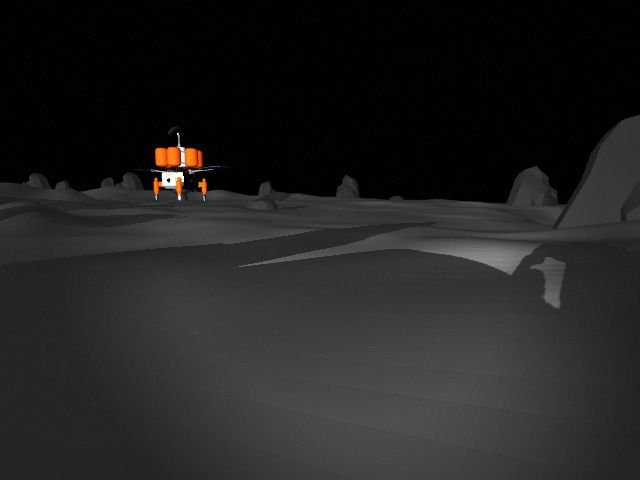homebase: (126, 123, 229, 203)
